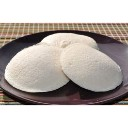idly: (61, 45, 124, 90), (5, 46, 67, 90), (42, 33, 98, 52)
